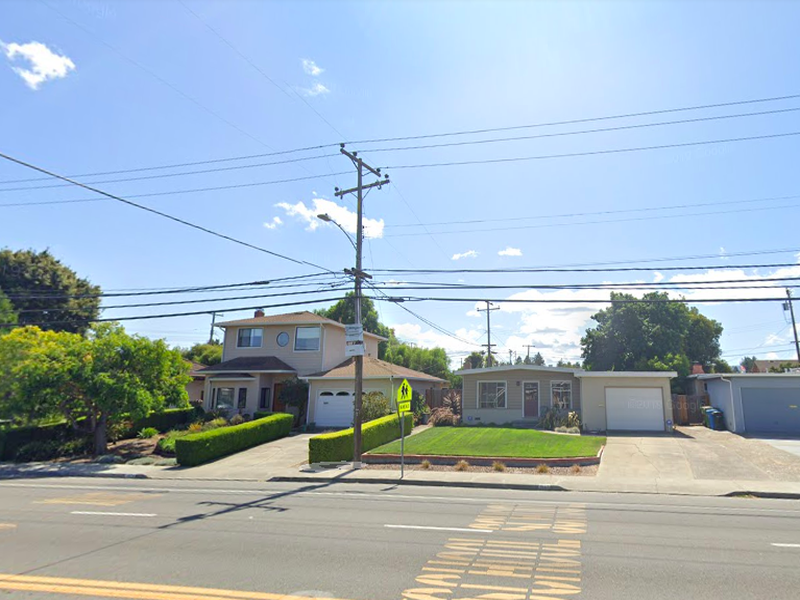utility_pole: (327, 132, 395, 209)
